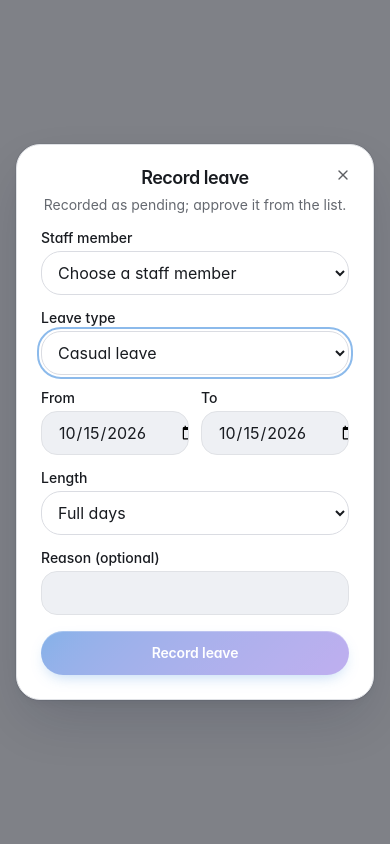
Scenario: Record leave › explains, and does not submit, when the staff member has no home branch
Select "Nomad Staff" in the dropdown labelled "Staff member" at (195, 273), box x1=41 y1=251 x2=349 y2=295
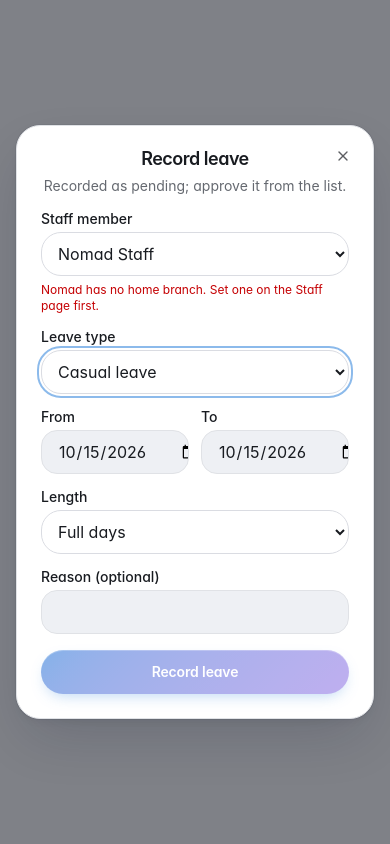
Expected: the button "Record leave" is disabled, x1=41 y1=650 x2=349 y2=694
Now the message shows "no home branch", box x1=41 y1=282 x2=323 y2=313
